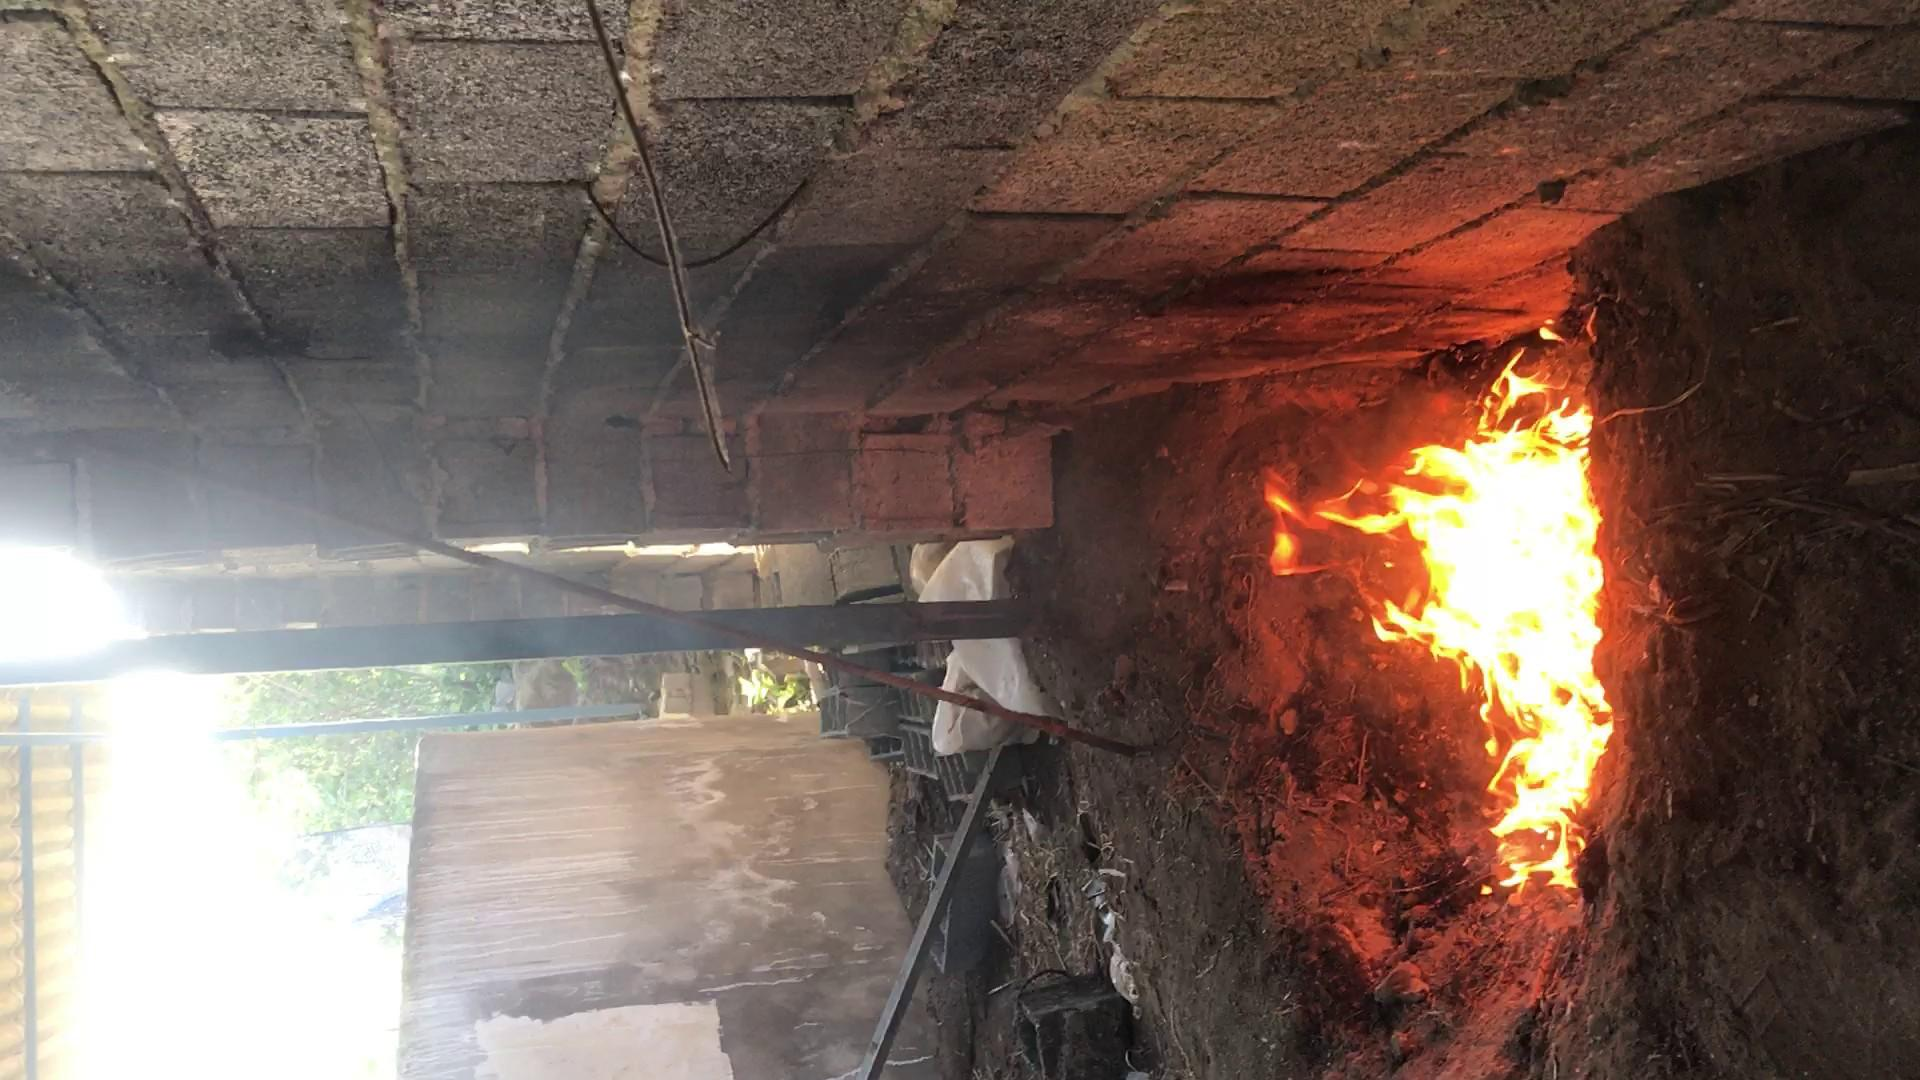fire: (386, 746, 1236, 898)
